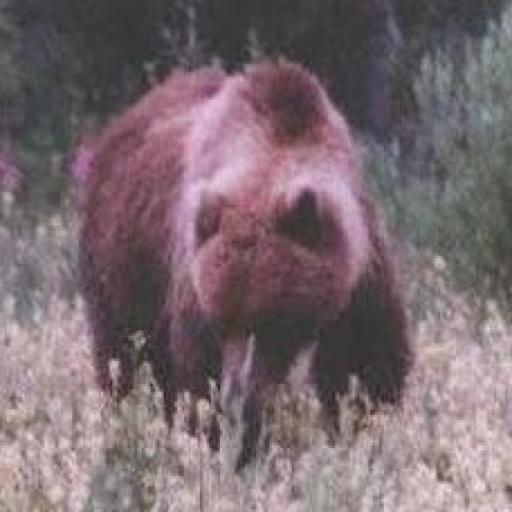Bear: (65, 54, 416, 471)
